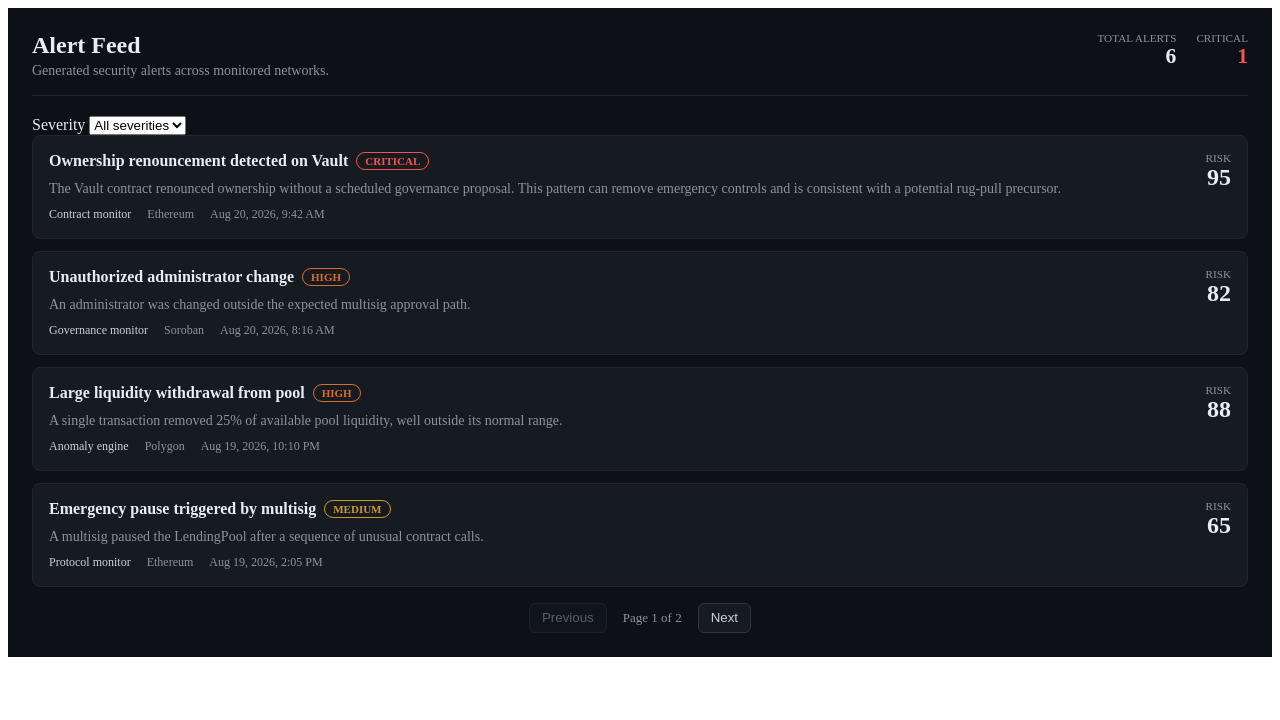
AlertFeed › filters by severity and resets to the first page
The width and height of the screenshot is (1280, 720).
Click the button "Next" at (724, 618), box [698,603,751,633]
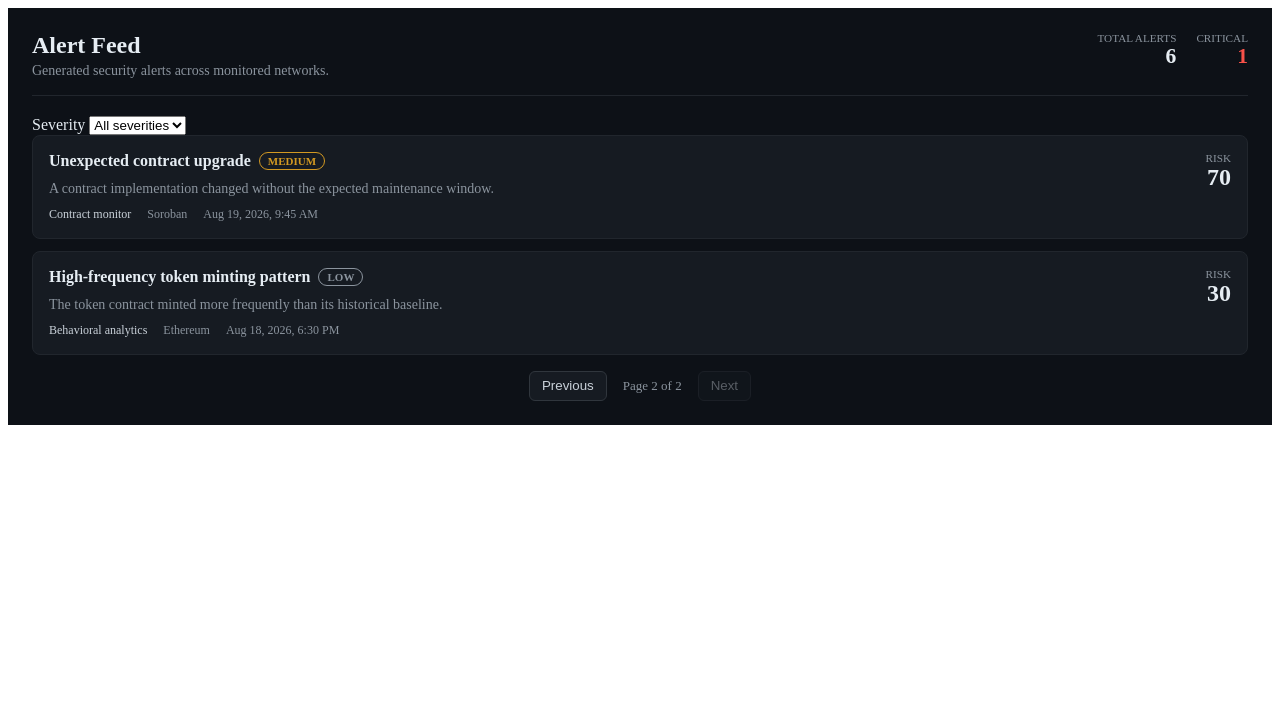
Select "critical" in the dropdown labelled "Severity" at (138, 126), box [89,116,186,135]
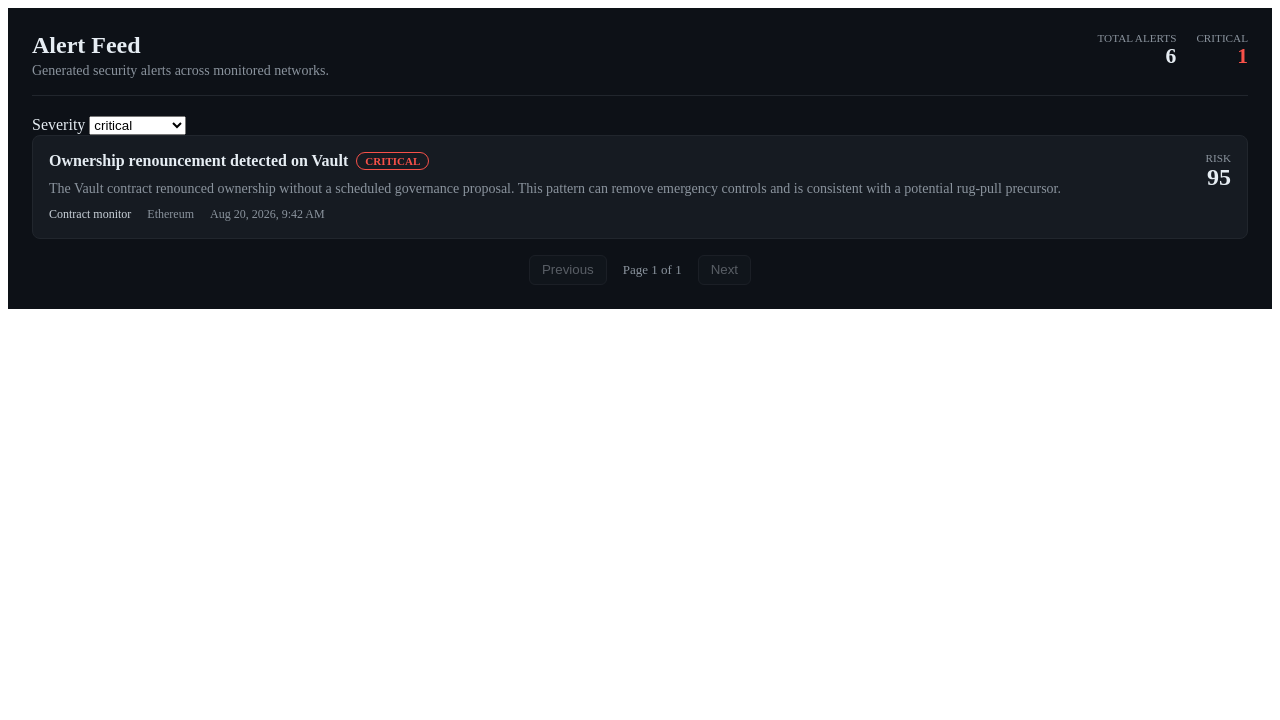
Now the link "Ownership renouncement detected on Vault" is shown, box [49,152,348,169]
Now the text "Page 1 of 1" is shown, box [623,262,682,278]
